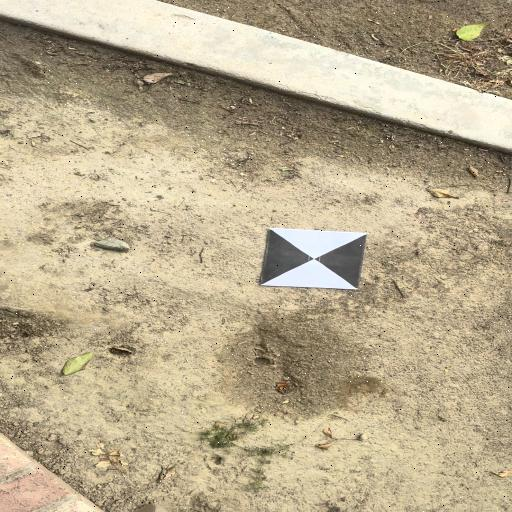target: (265, 229, 364, 288)
